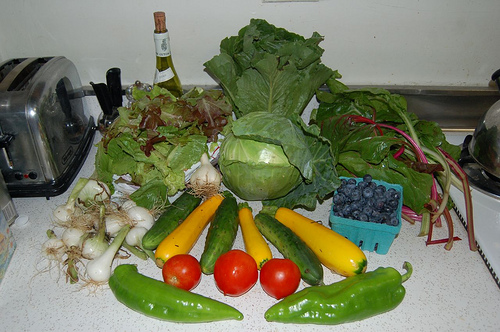cabbage: (217, 111, 342, 213)
